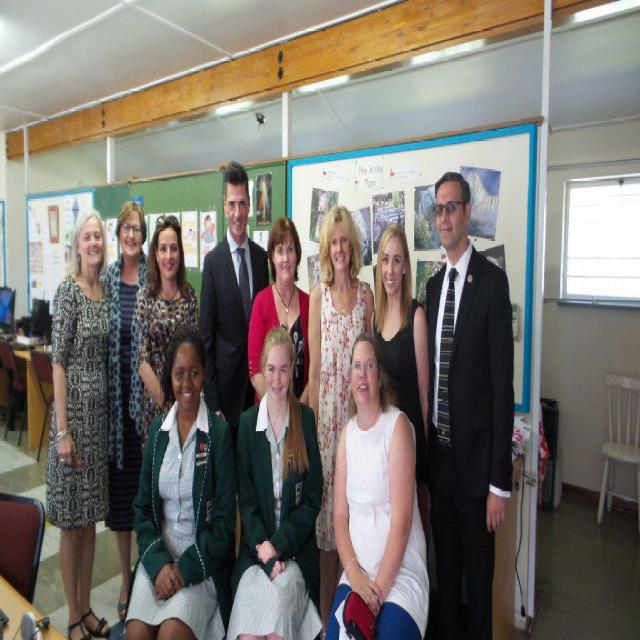body: (413, 169, 515, 639), (121, 320, 235, 639), (324, 332, 430, 639), (306, 202, 376, 639), (44, 203, 114, 639), (225, 326, 322, 640), (101, 200, 150, 623), (197, 159, 270, 431), (368, 221, 431, 487), (134, 214, 200, 456), (246, 216, 311, 407), (255, 171, 272, 229)
